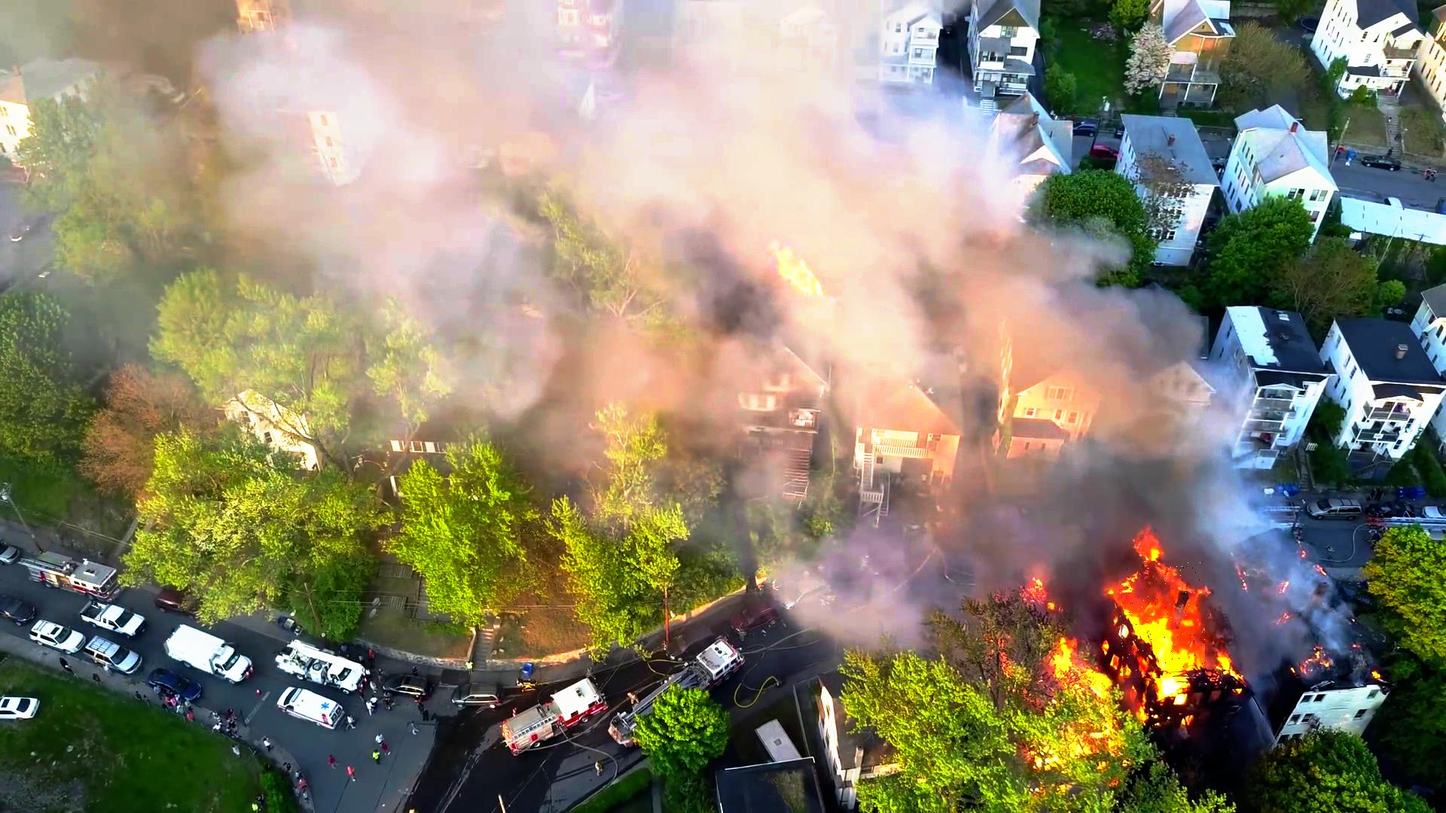fire: (1119, 561, 1207, 680)
